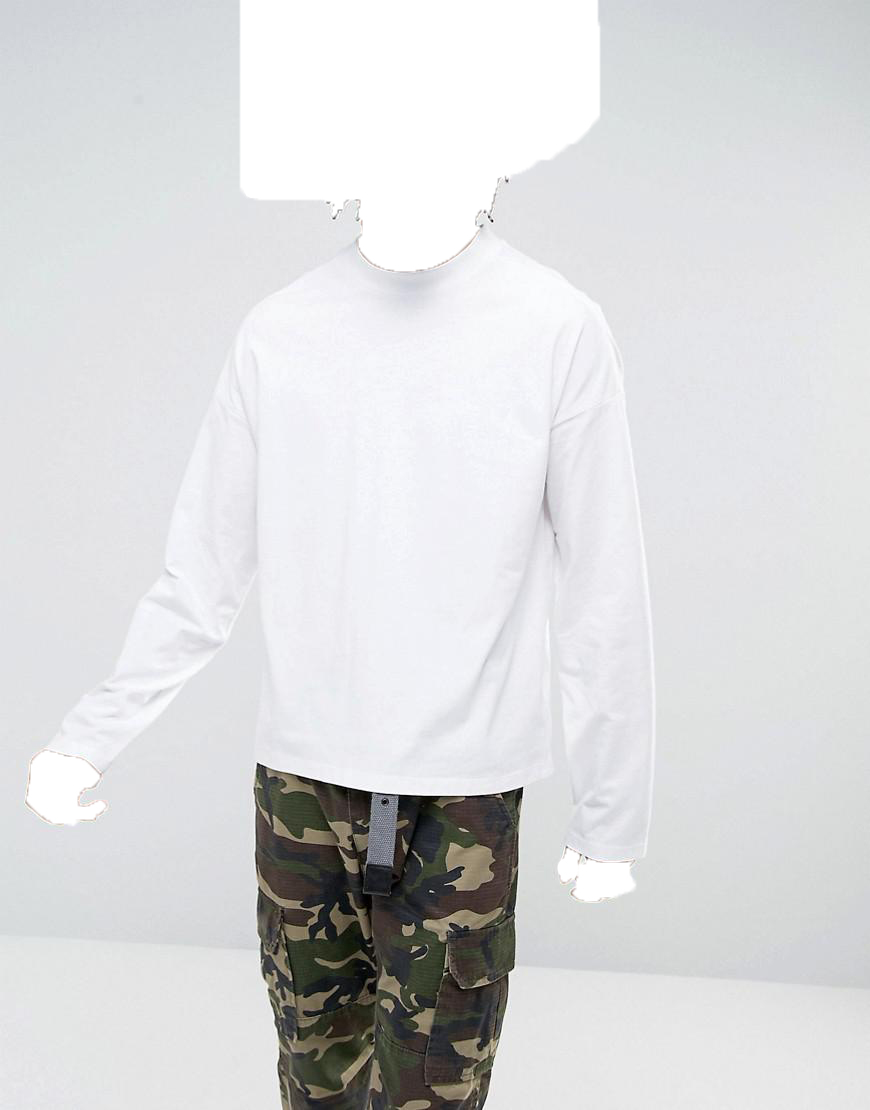teeshirt: (54, 234, 686, 866)
